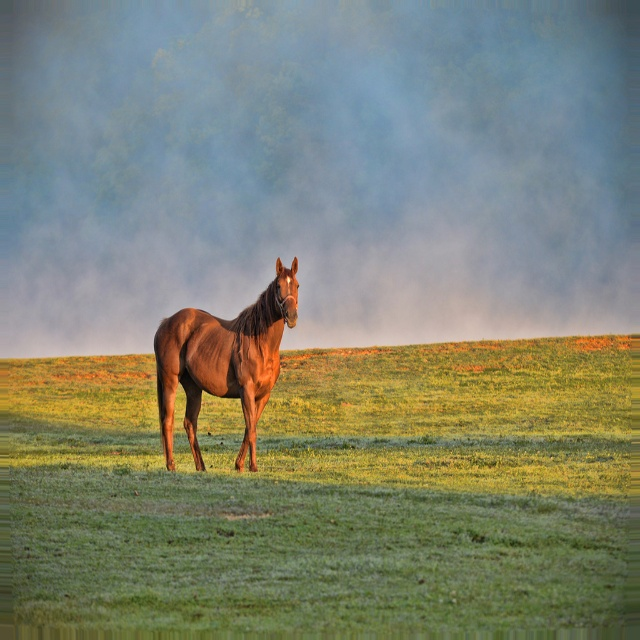Horse: (150, 254, 301, 478)
